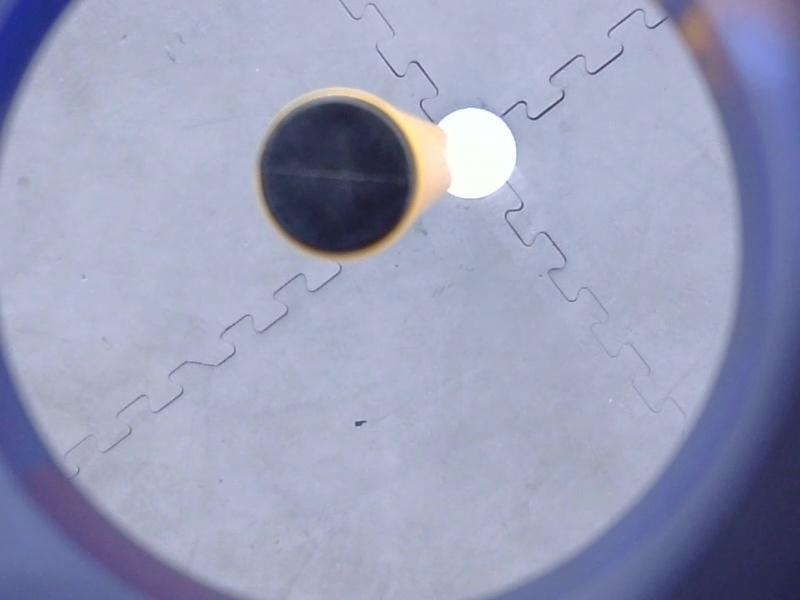tip: (244, 78, 433, 270)
